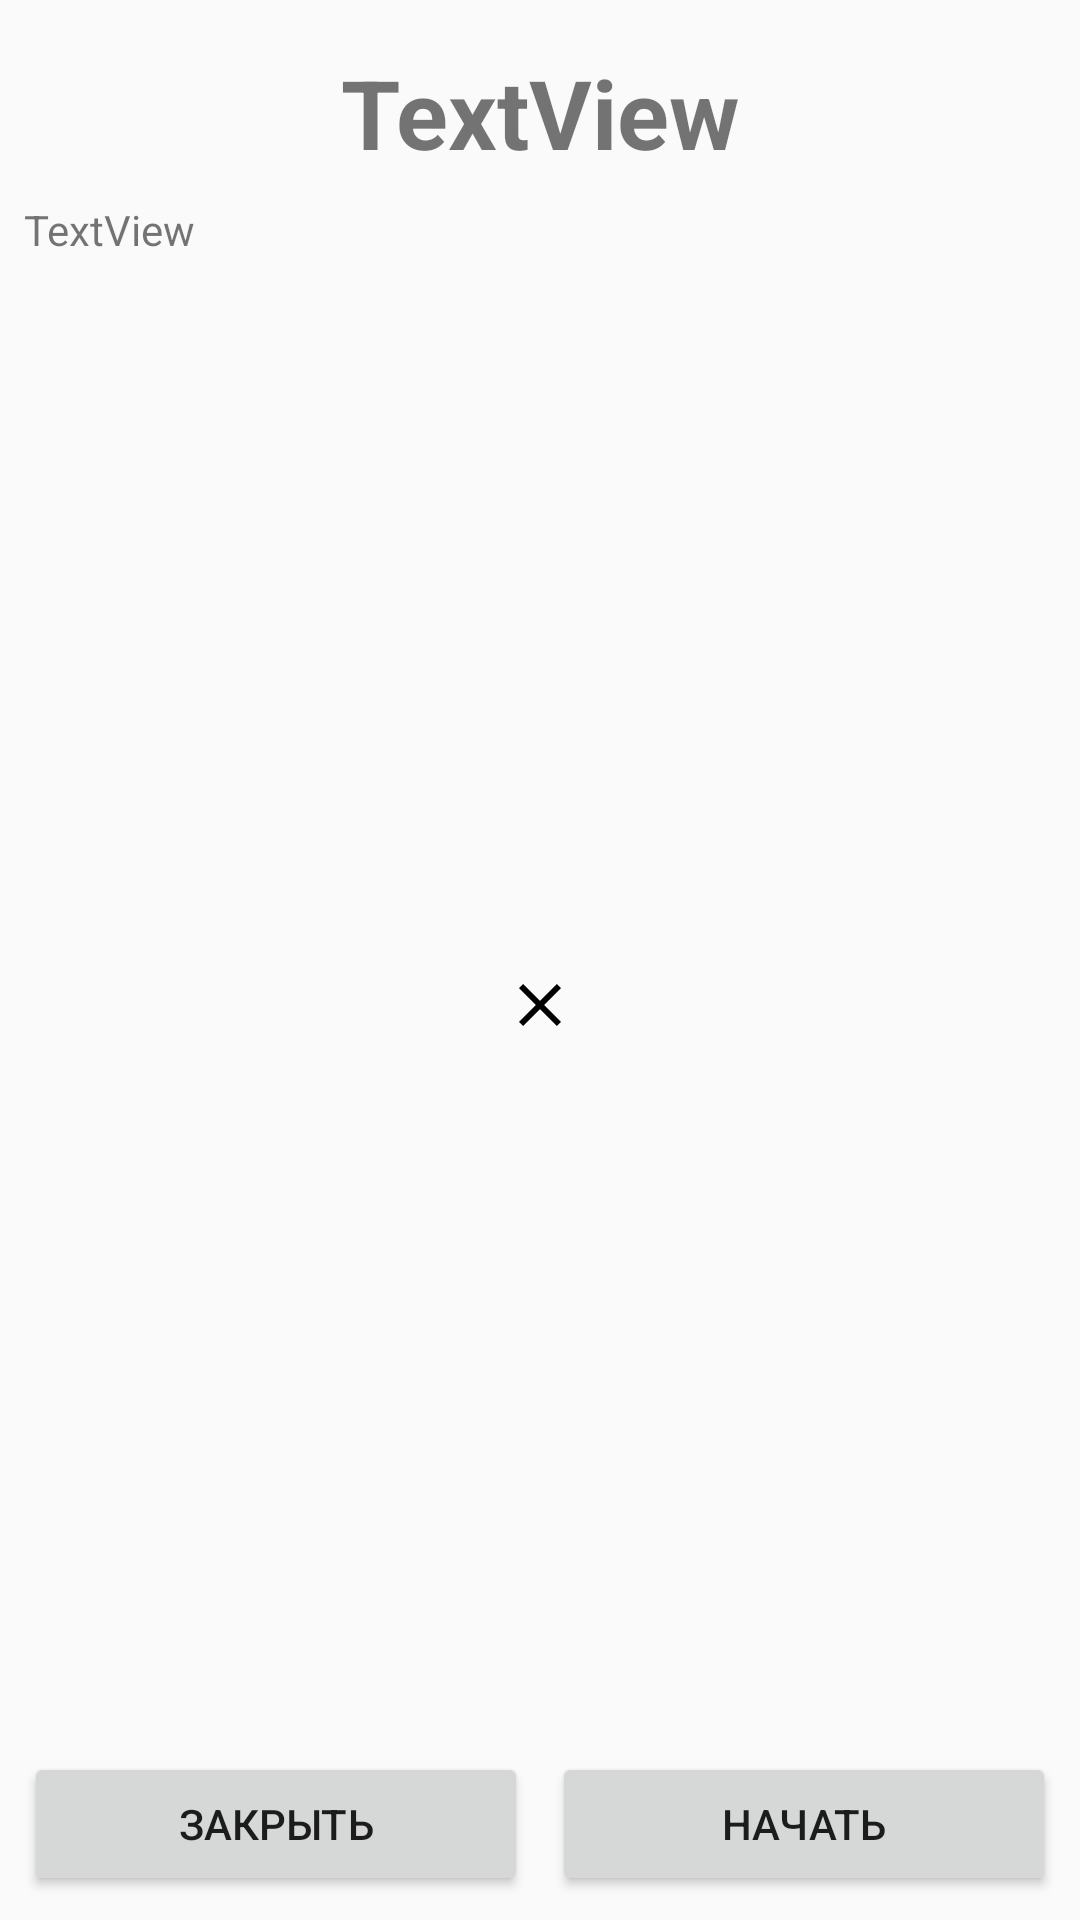

Icon bounding boxes for this 1080 x 1920 phone screenshot, format (x1, y1, x2, y2):
close: (519, 984, 561, 1026)
